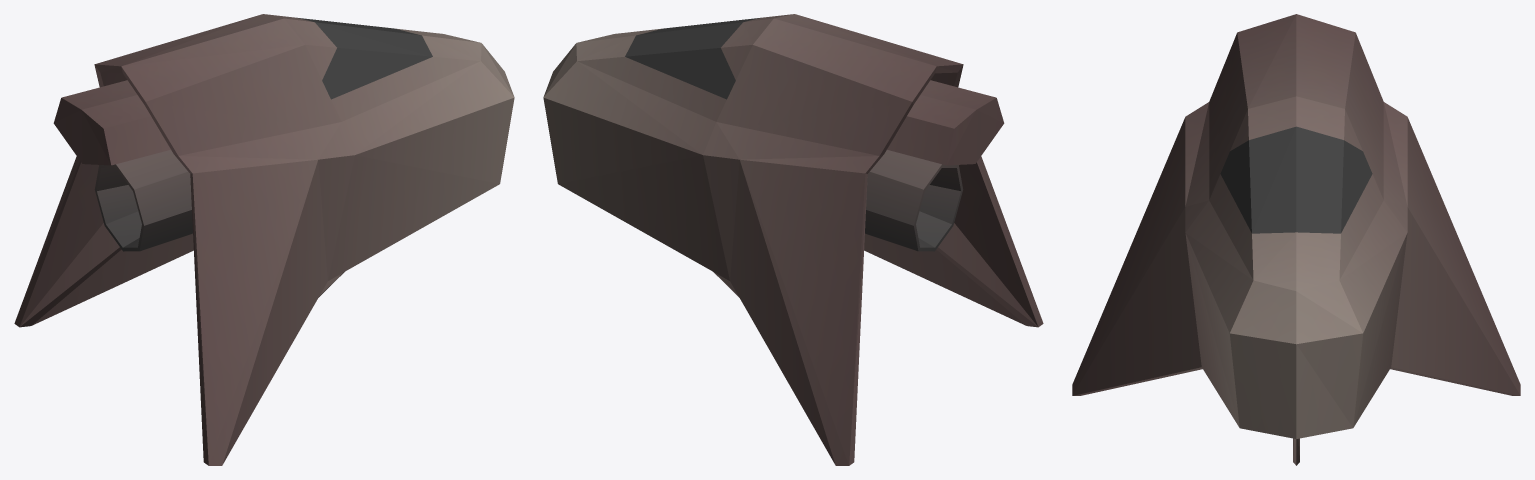
File: spacecraft01.FBX
3 renders of one model, left to right at view 1: azimuth 30°, elevation 25°; view 2: azimuth 150°, elevation 25°; view 3: azimuth 270°, elevation 25°, orthographic. The views are drawn at different scales.
Parts seen in each view (by area): view 1: spacecraft01; view 2: spacecraft01; view 3: spacecraft01.
Part boxes in pixels (x1,y1,x2,y2): spacecraft01: (14, 14, 514, 465); spacecraft01: (543, 14, 1043, 465); spacecraft01: (1072, 14, 1520, 465).
Size of the model in its own units: 2.6 by 1.98 by 2.07.
